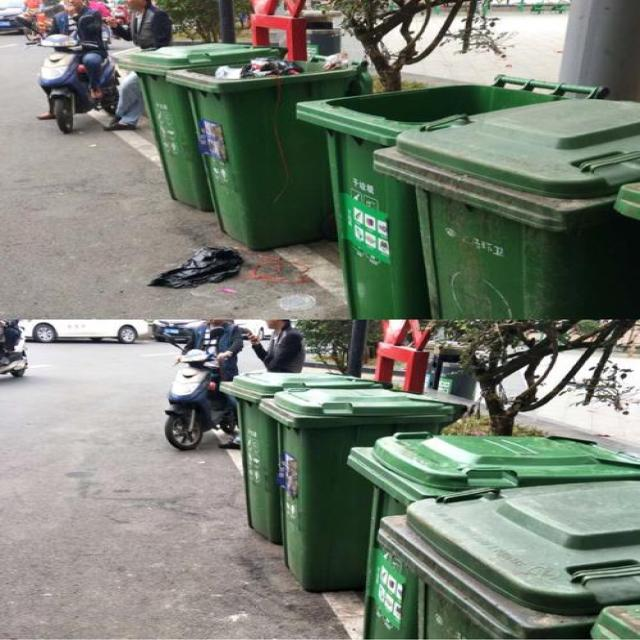garbage: (144, 247, 310, 292)
garbage_bin: (297, 73, 605, 317), (343, 433, 639, 634), (379, 96, 637, 318), (260, 387, 463, 590), (215, 370, 384, 542), (118, 42, 288, 210)
overflow: (168, 52, 371, 250)
